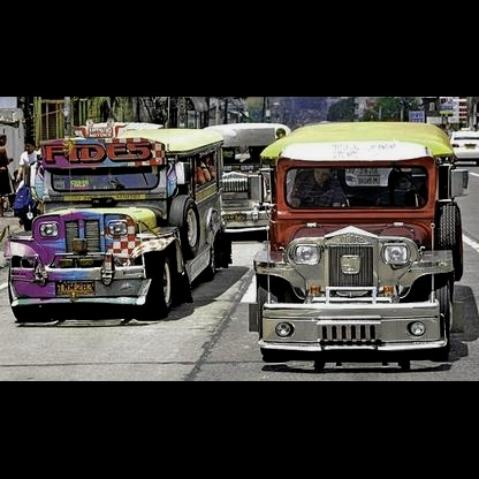jeepney: (239, 115, 469, 374), (0, 117, 231, 327)
